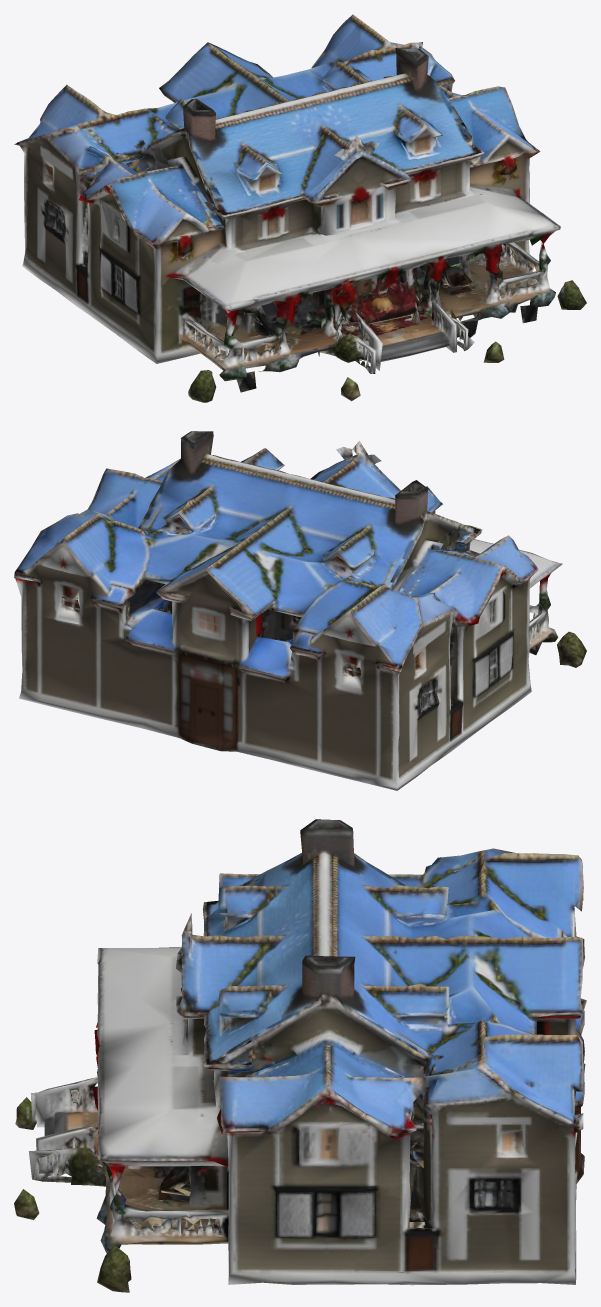
The model's file is House.glb.
3 views of the same model, one above another, from view 1: azimuth 30°, elevation 25°; view 2: azimuth 150°, elevation 25°; view 3: azimuth 270°, elevation 25° (orthographic). The views are drawn at different scales.
Visible parts, largest first — view 1: Mesh1.0; view 2: Mesh1.0; view 3: Mesh1.0.
Part boxes in pixels (box(x1,y1,x2,y2)): Mesh1.0: box(14, 14, 586, 402); Mesh1.0: box(14, 431, 586, 790); Mesh1.0: box(14, 819, 586, 1292).
Size of the model in its own units: 1.9 by 0.9926 by 1.82.
Materials: 1 (1 with a texture image).
